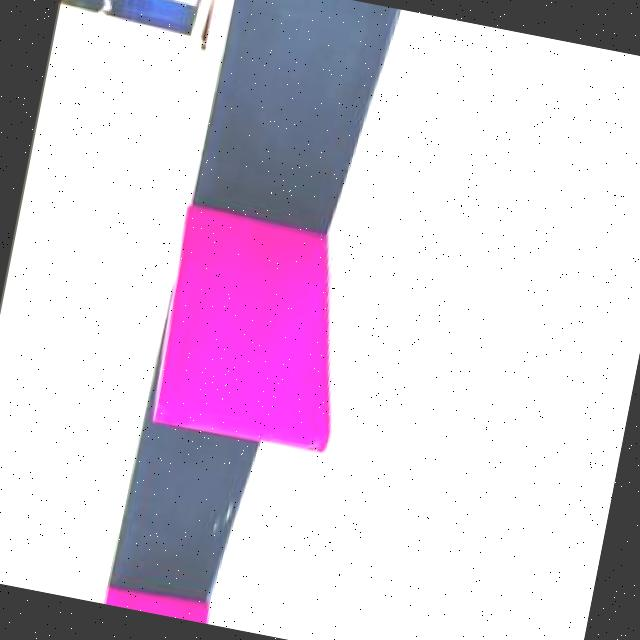xparking: (149, 208, 339, 448), (103, 589, 210, 624)
